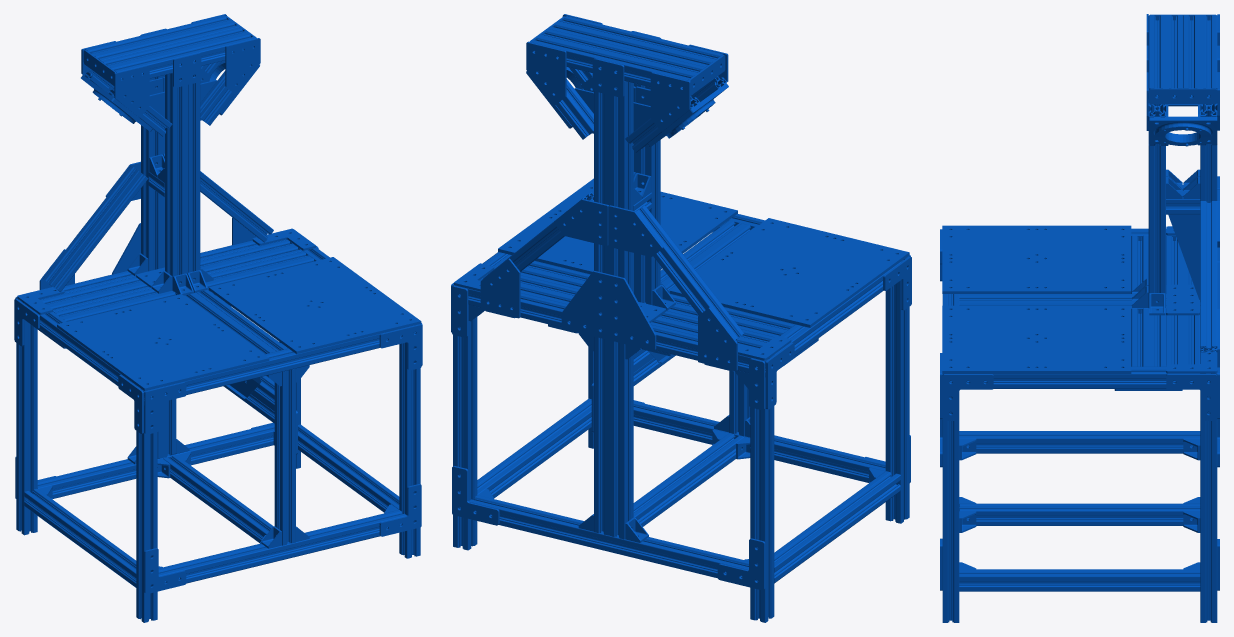
The model's file is DualArmUR5Frame.glb.
3 views of the same model, side by side, from view 1: azimuth 30°, elevation 25°; view 2: azimuth 150°, elevation 25°; view 3: azimuth 270°, elevation 25° (orthographic). The views are drawn at different scales.
Visible parts, largest first — view 1: UR5Frame; view 2: UR5Frame; view 3: UR5Frame.
Boxes of the visible parts, x1,y1,x2,y2 form: UR5Frame: (14, 14, 422, 622); UR5Frame: (451, 14, 911, 622); UR5Frame: (940, 14, 1219, 622).
Size of the model in its own units: 0.9117 by 1.44 by 0.7323.
